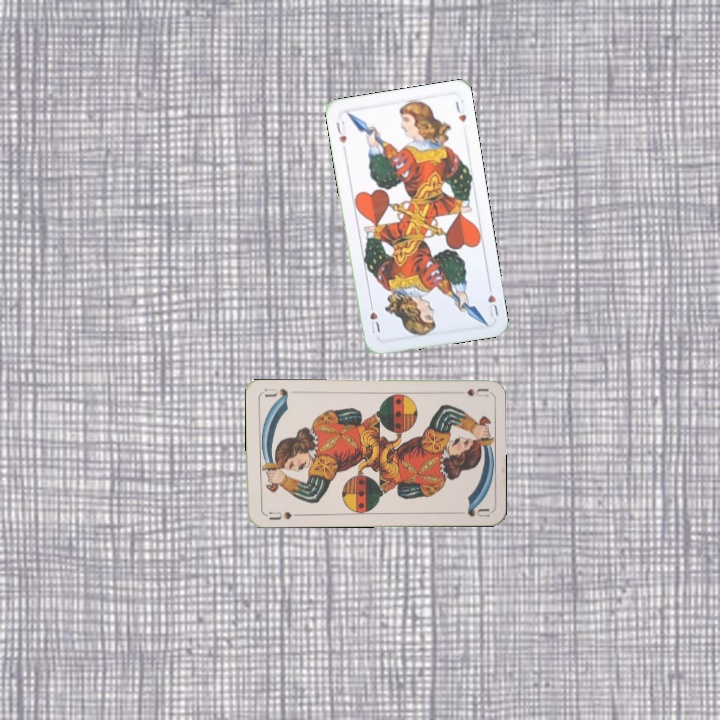HU: (484, 280, 501, 320), (332, 117, 349, 146)
SU: (265, 508, 301, 522), (463, 384, 489, 399)
